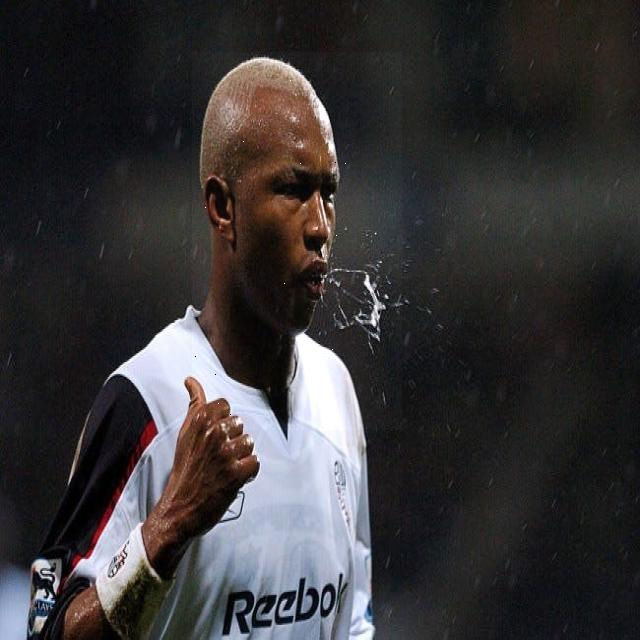Spitting: (192, 52, 402, 430)
